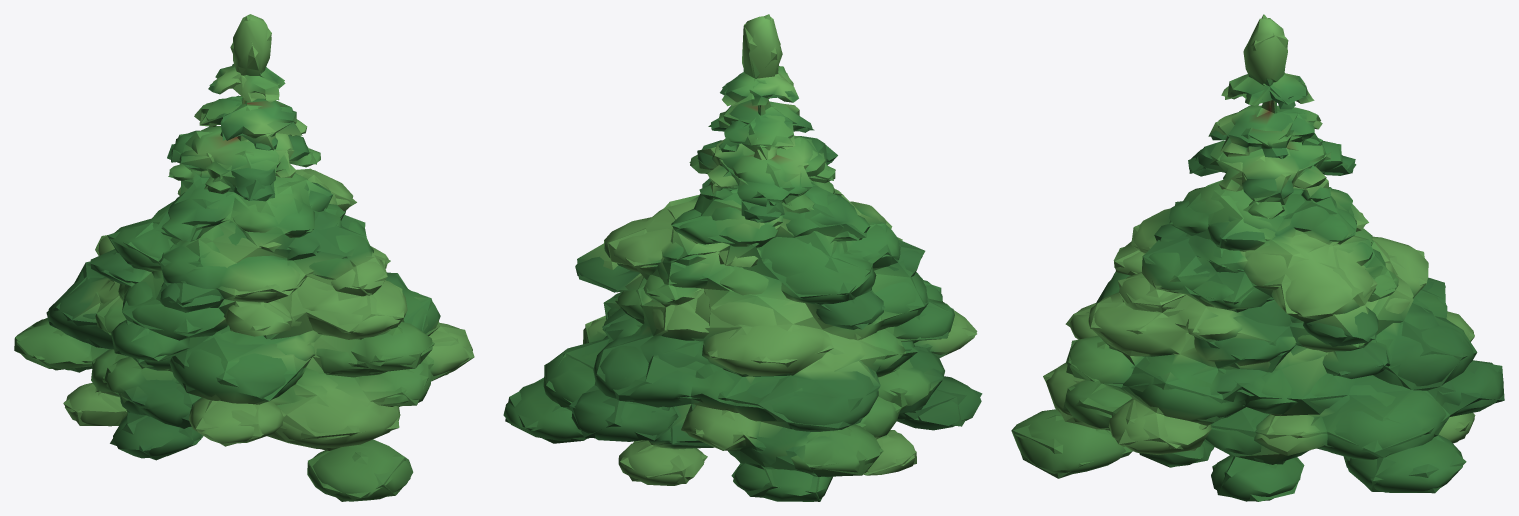
File: pine_mature_full_base.glb
3 views of the same model, side by side, from view 1: azimuth 30°, elevation 25°; view 2: azimuth 150°, elevation 25°; view 3: azimuth 270°, elevation 25° (orthographic). The views are drawn at different scales.
Visible parts, largest first — view 1: pine_mature_full_base_LOD1, pine_mature_full_base_LOD2; view 2: pine_mature_full_base_LOD1, pine_mature_full_base_LOD2; view 3: pine_mature_full_base_LOD1, pine_mature_full_base_LOD2.
Boxes of the visible parts, bbox=[...] form: pine_mature_full_base_LOD1: bbox=[16, 14, 472, 501]; pine_mature_full_base_LOD2: bbox=[14, 15, 474, 501]; pine_mature_full_base_LOD1: bbox=[503, 16, 981, 501]; pine_mature_full_base_LOD2: bbox=[505, 14, 982, 501]; pine_mature_full_base_LOD1: bbox=[1011, 18, 1503, 501]; pine_mature_full_base_LOD2: bbox=[1013, 14, 1504, 501].
Bounding box in the file's own units: 5.45 × 6.39 × 6.54.
